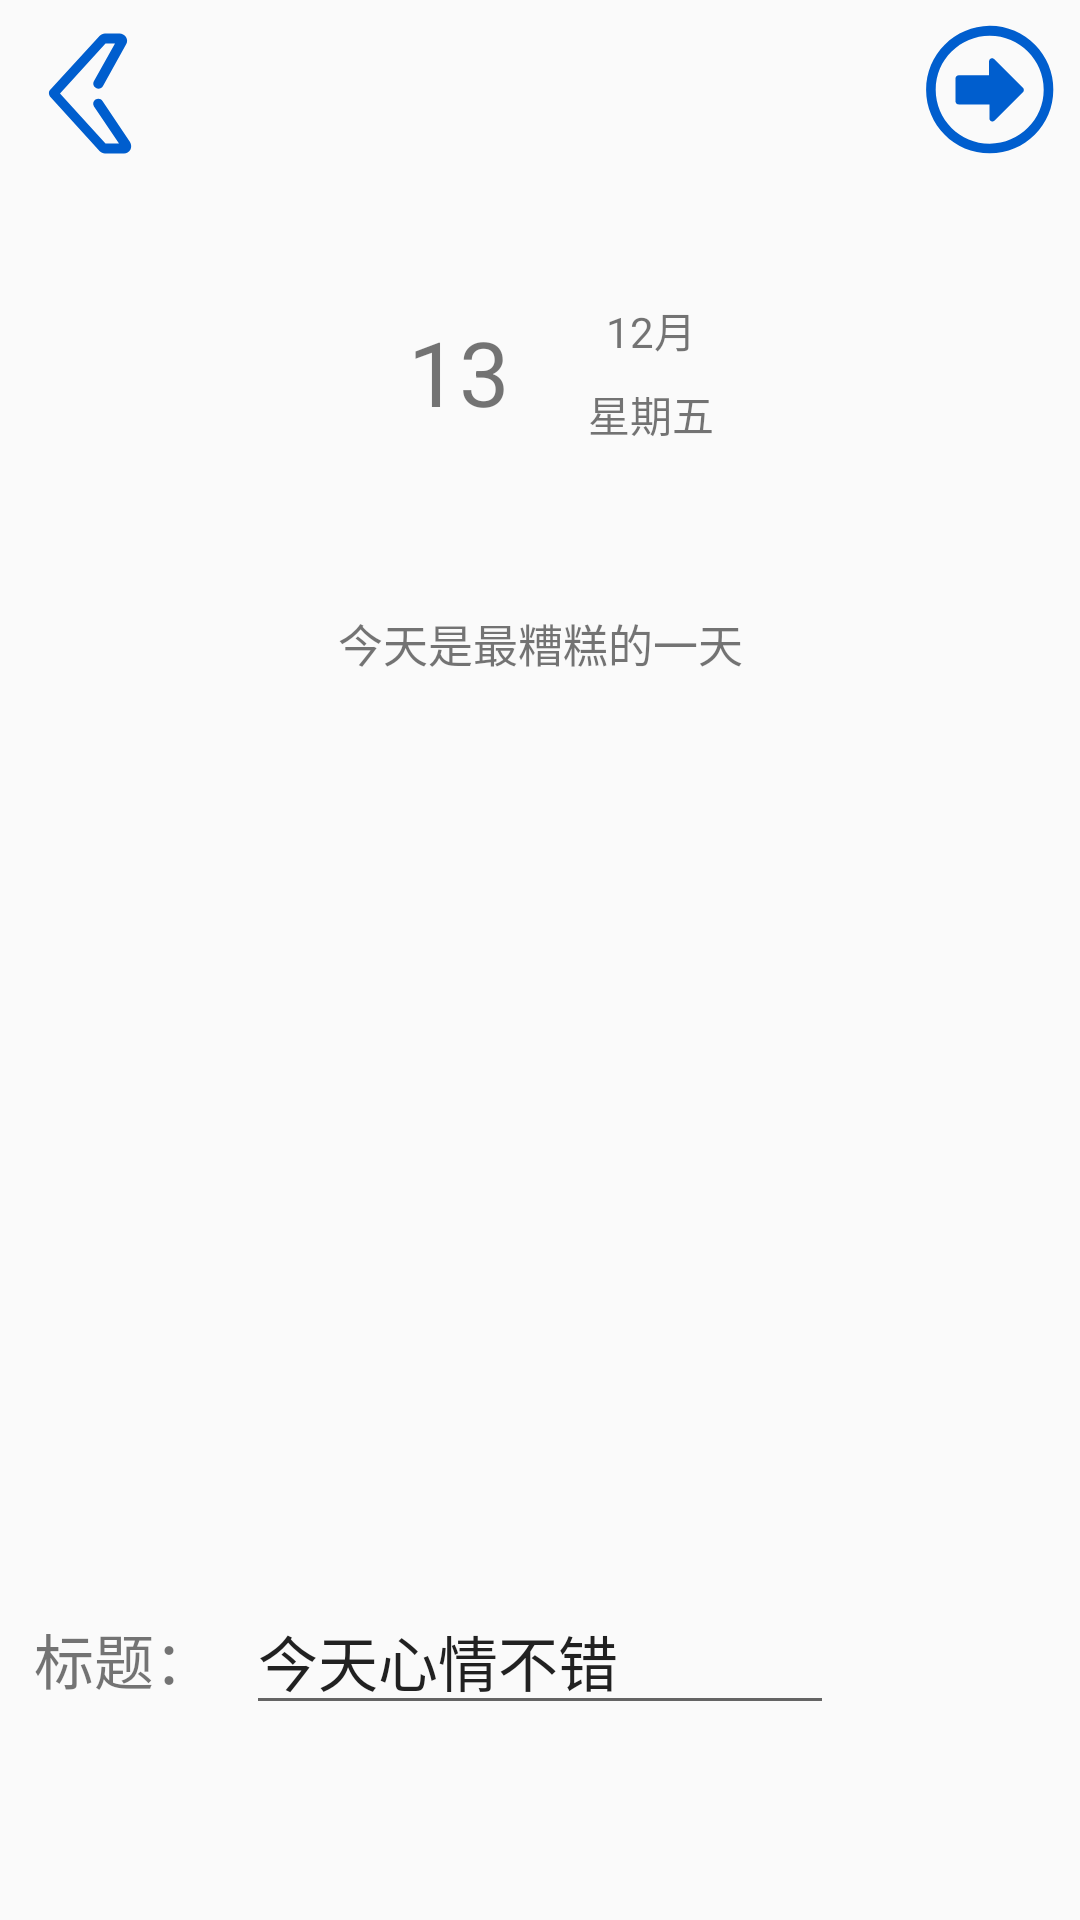

Named icons in this screenshot (1080px×1920px) and their bounding boxes, BBox(x1, y1, x2, y2):
back: BBox(49, 33, 132, 154)
foward: BBox(926, 25, 1054, 154)
